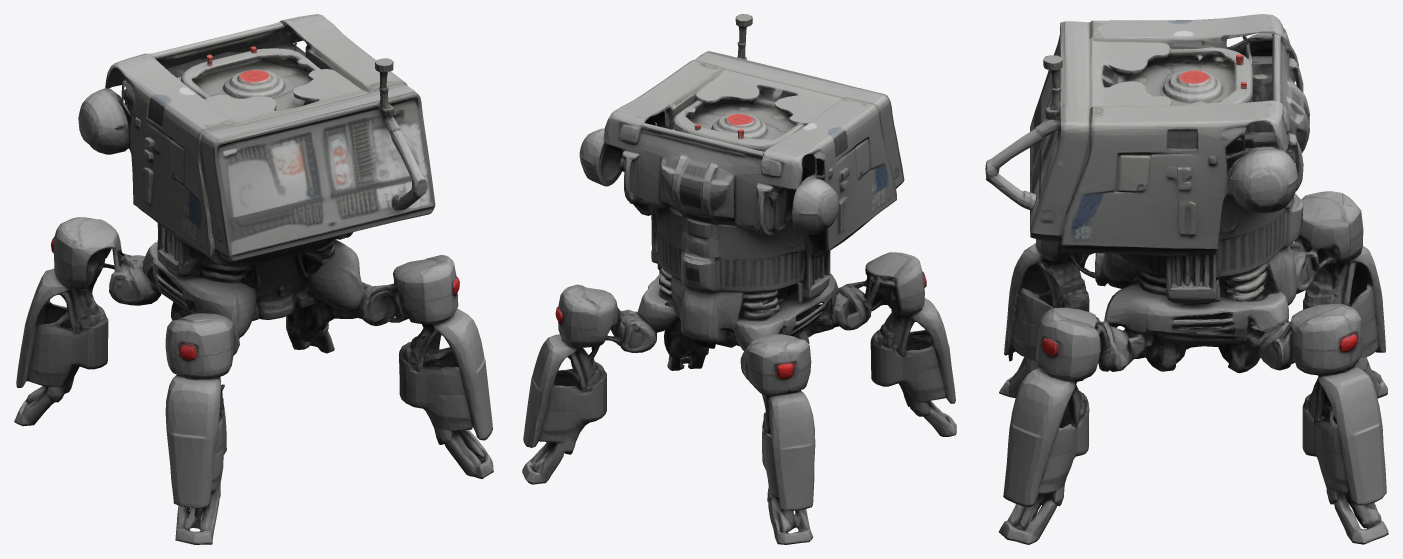
3 views of the same model, side by side, from view 1: azimuth 30°, elevation 25°; view 2: azimuth 150°, elevation 25°; view 3: azimuth 270°, elevation 25° (orthographic). The views are drawn at different scales.
Parts seen in each view (by area): view 1: geometry_0; view 2: geometry_0; view 3: geometry_0.
Part boxes in pixels (box(x1,y1,x2,y2)): geometry_0: box(14, 14, 493, 544); geometry_0: box(522, 14, 956, 544); geometry_0: box(985, 14, 1388, 544).
Bounding box in the file's own units: 0.8 × 1 × 0.8371.
1 material, 1 textured.
